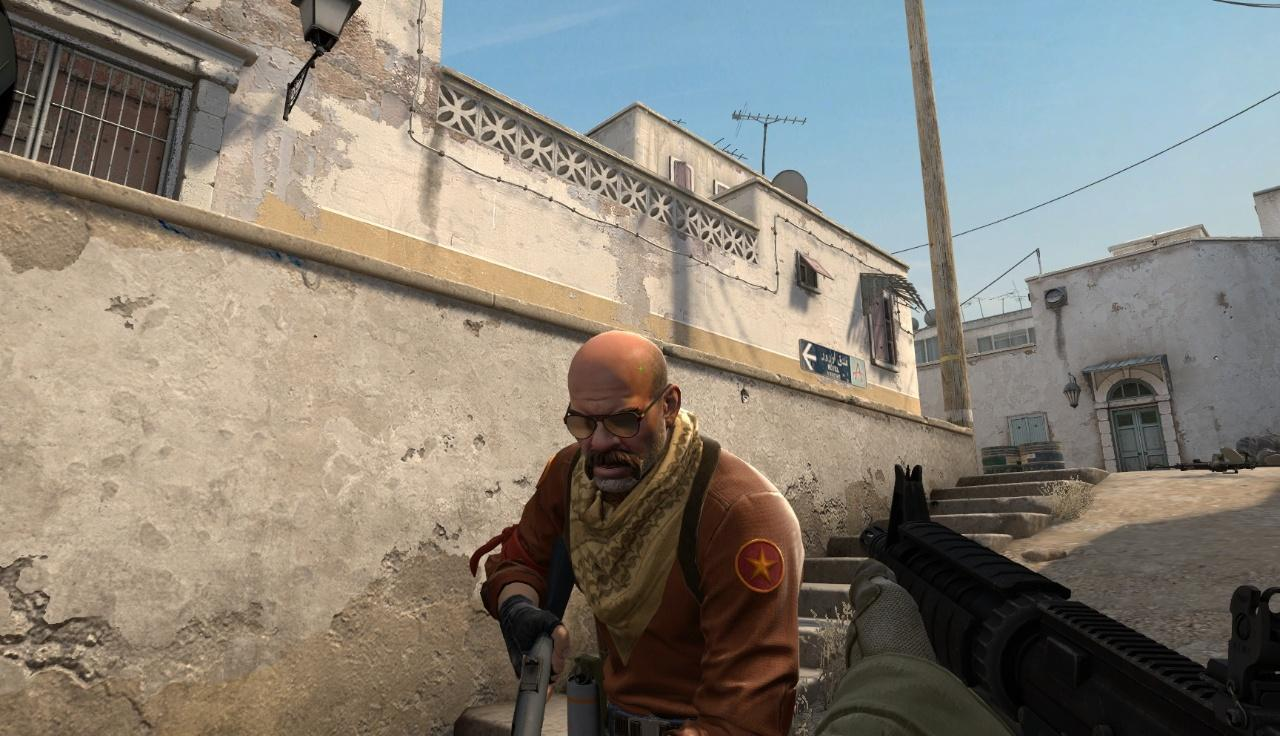pistol: (812, 464, 1280, 736)
tt: (481, 329, 804, 736)
tthead: (567, 329, 680, 491)
